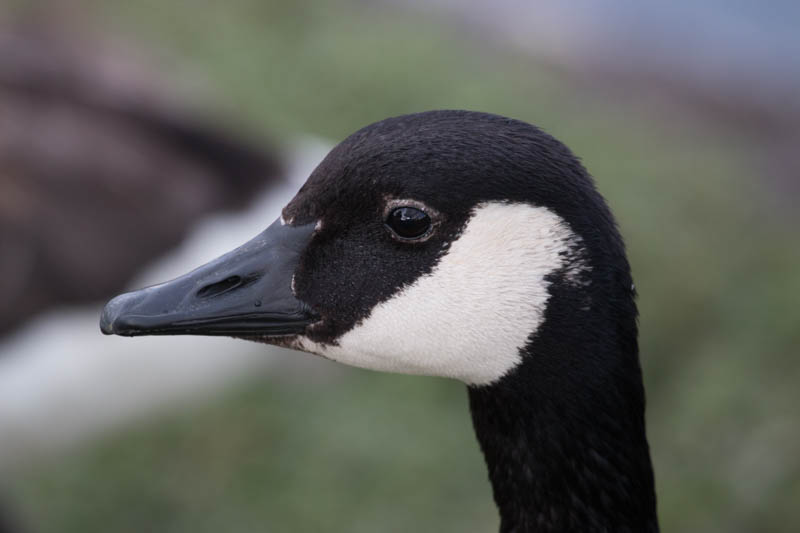goose-head: (100, 108, 638, 385)
